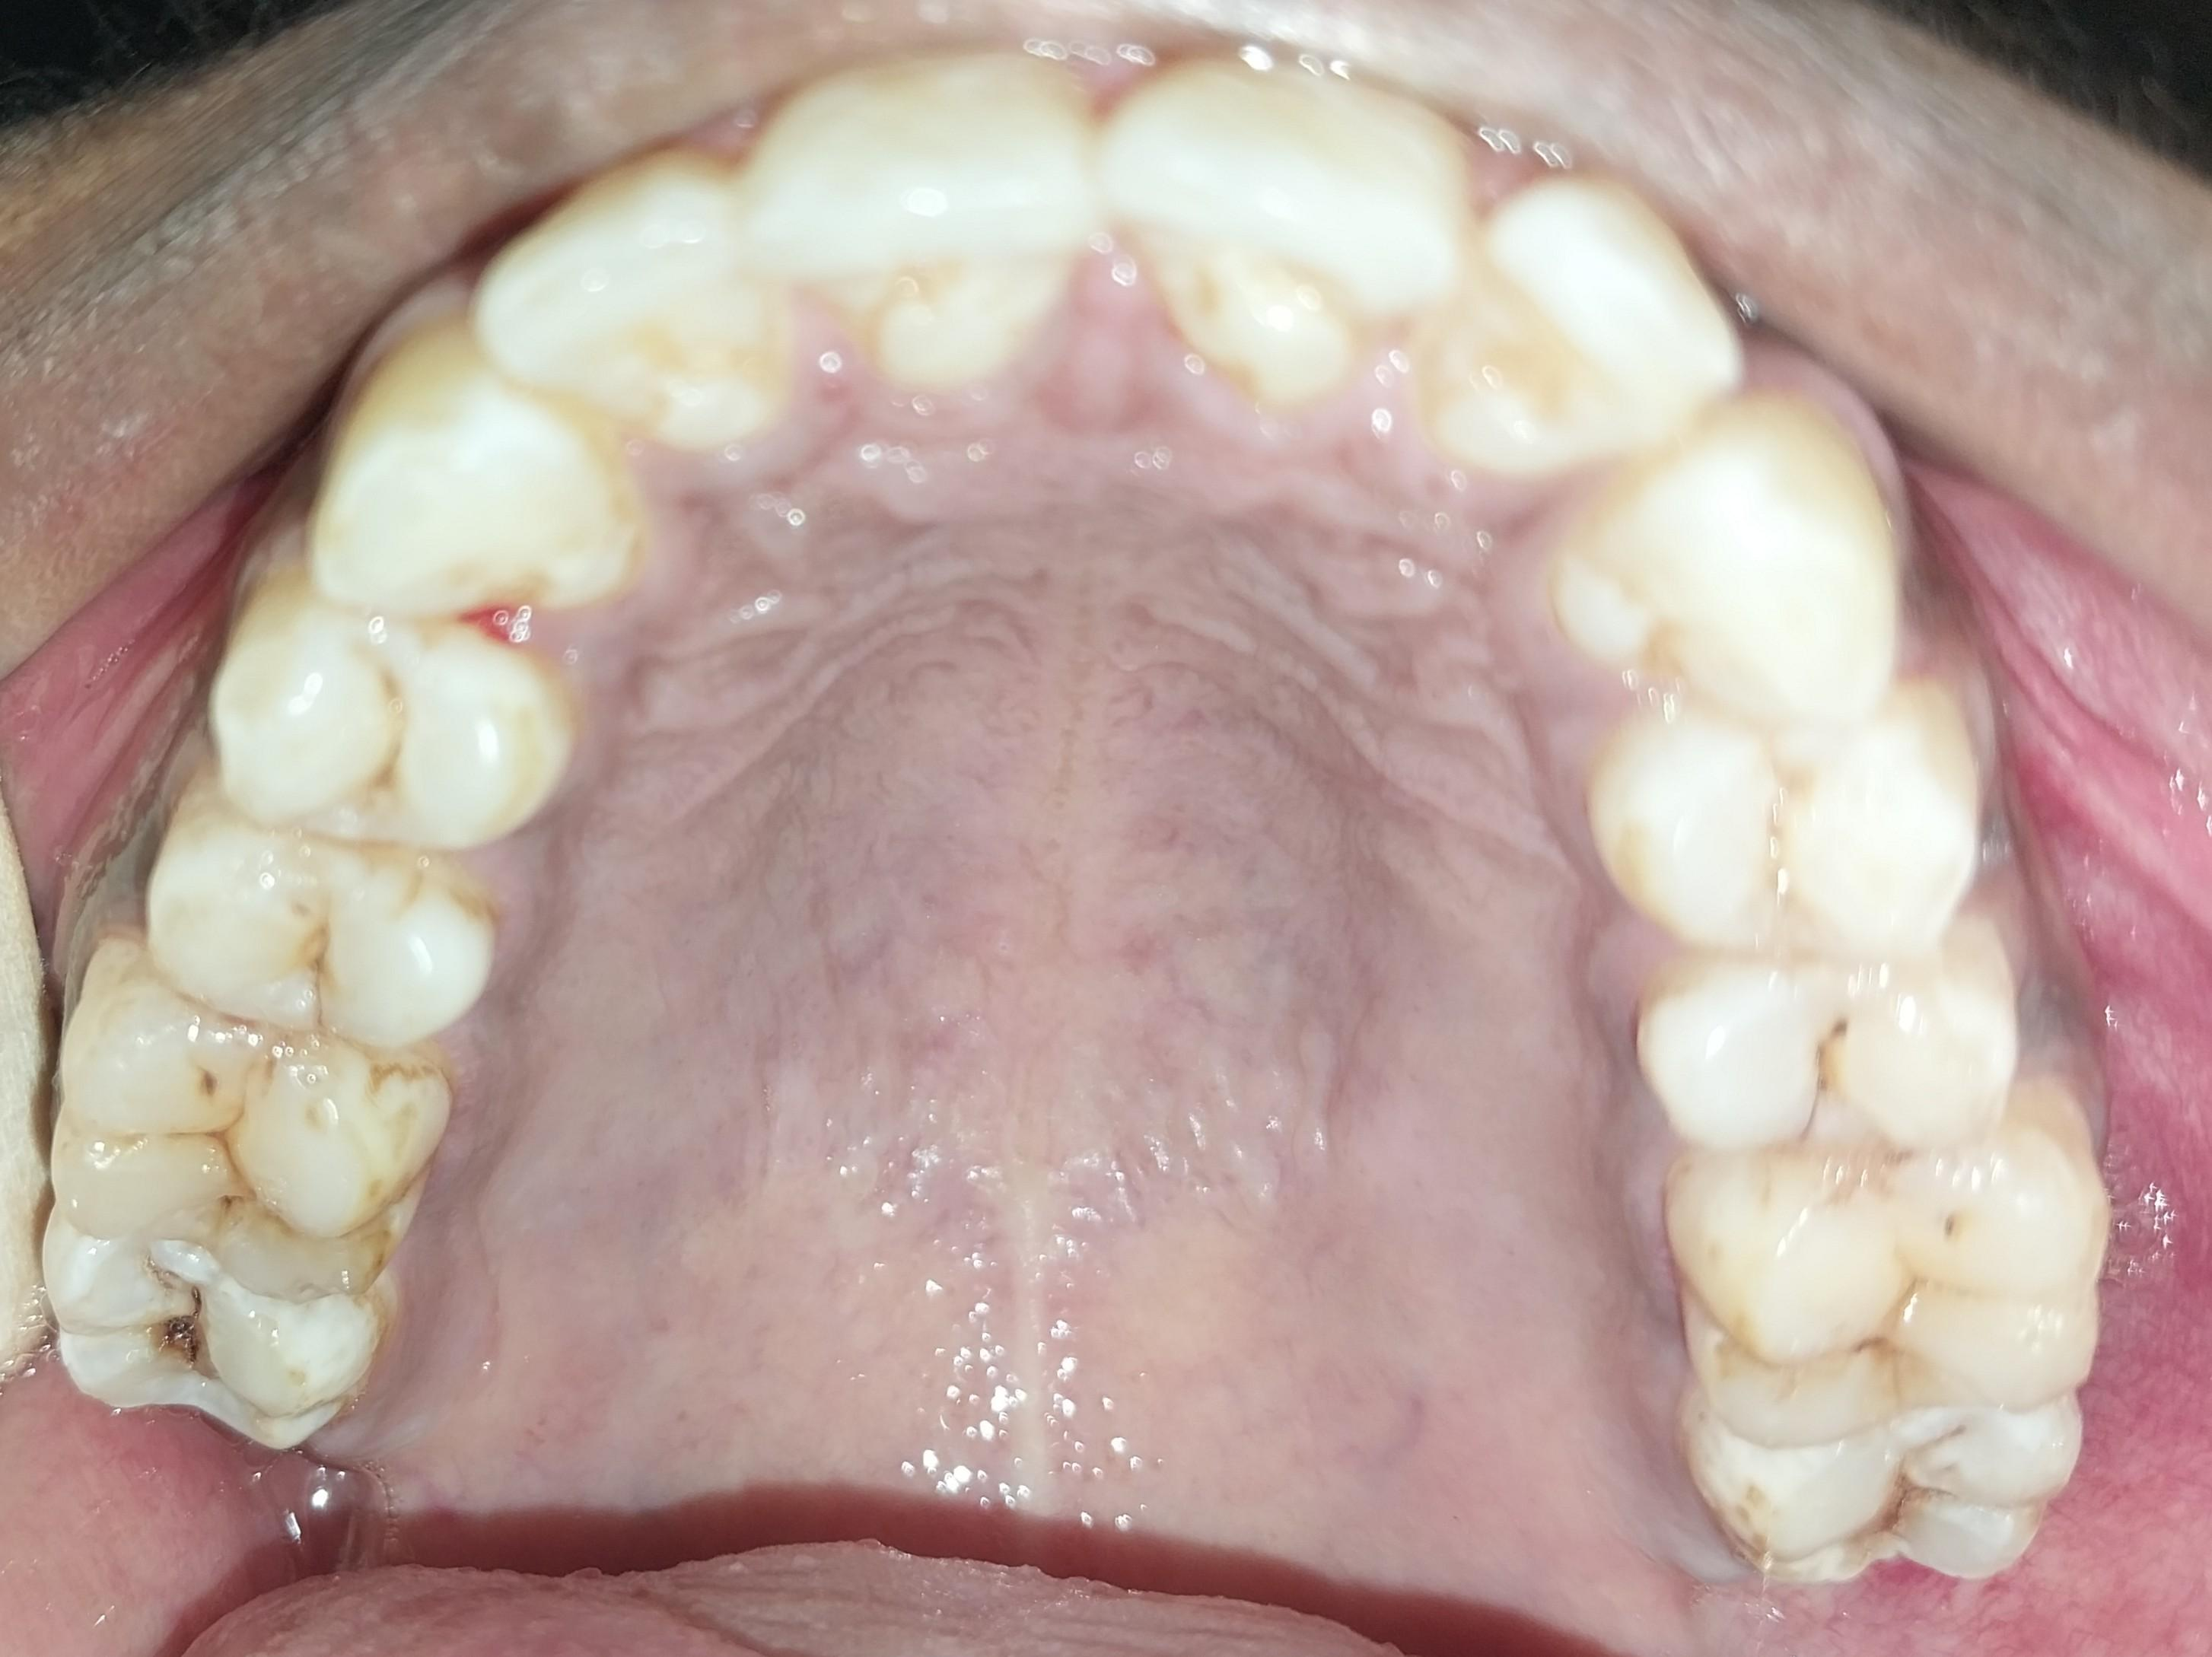D: (37, 1212, 379, 1445), (1660, 940, 2015, 1163), (1703, 1412, 2080, 1585)
